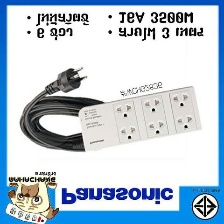three_eye_plug: (75, 84, 203, 156)
